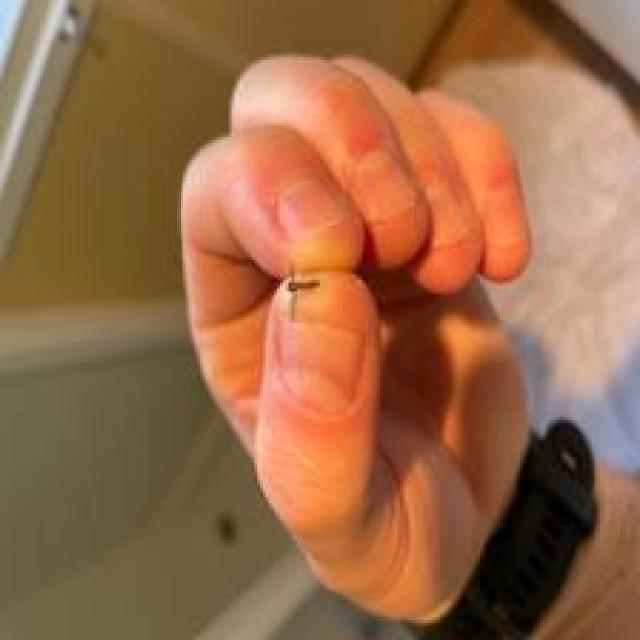Culex: (280, 263, 320, 323)
